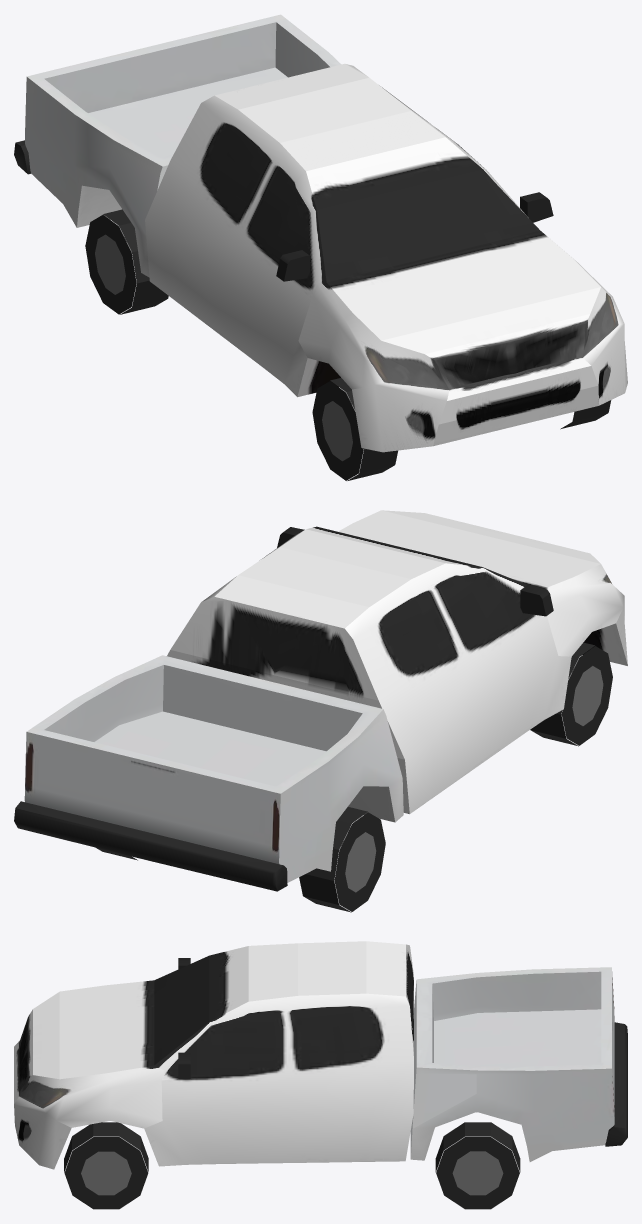
File: pickup_l.glb
3 renders of one model, top to bottom at view 1: azimuth 30°, elevation 25°; view 2: azimuth 150°, elevation 25°; view 3: azimuth 270°, elevation 25°, orthographic. The views are drawn at different scales.
Parts seen in each view (by area): view 1: body, trim; view 2: body, trim; view 3: body, trim.
Boxes of the visible parts, x1,y1,x2,y2 form: body: (25, 14, 627, 452); trim: (14, 140, 611, 480); body: (24, 510, 627, 882); trim: (14, 527, 612, 912); body: (14, 941, 614, 1169); trim: (64, 958, 627, 1209).
Bounding box in the file's own units: 2.2 × 1.83 × 5.3.
2 materials, 1 textured.
